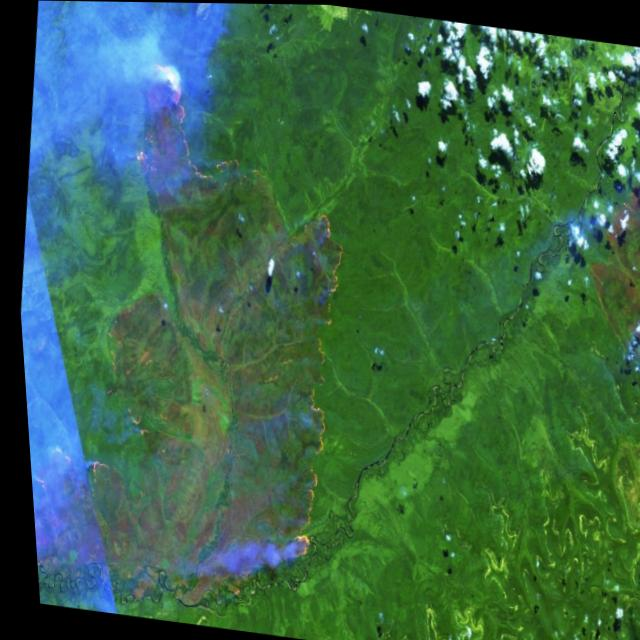fire: (119, 51, 277, 213), (261, 327, 340, 575), (299, 200, 355, 325)
